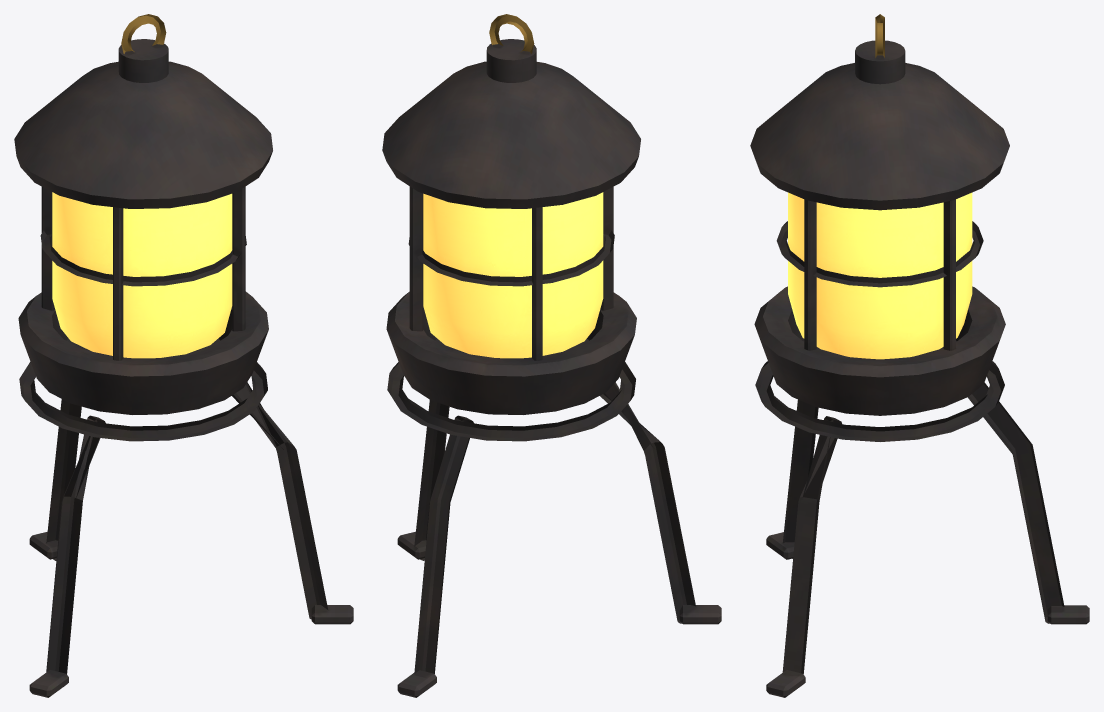
The model's file is brazier.glb.
3 renders of one model, left to right at view 1: azimuth 30°, elevation 25°; view 2: azimuth 150°, elevation 25°; view 3: azimuth 270°, elevation 25°, orthographic.
Parts seen in each view (by area): view 1: brazier; view 2: brazier; view 3: brazier.
Part boxes in pixels (<box>): brazier: <box>14,14,353,697</box>; brazier: <box>382,14,721,697</box>; brazier: <box>750,14,1089,697</box>.
Size of the model in its own units: 0.888 by 1.59 by 0.81.
Materials: 3 (3 with a texture image).
